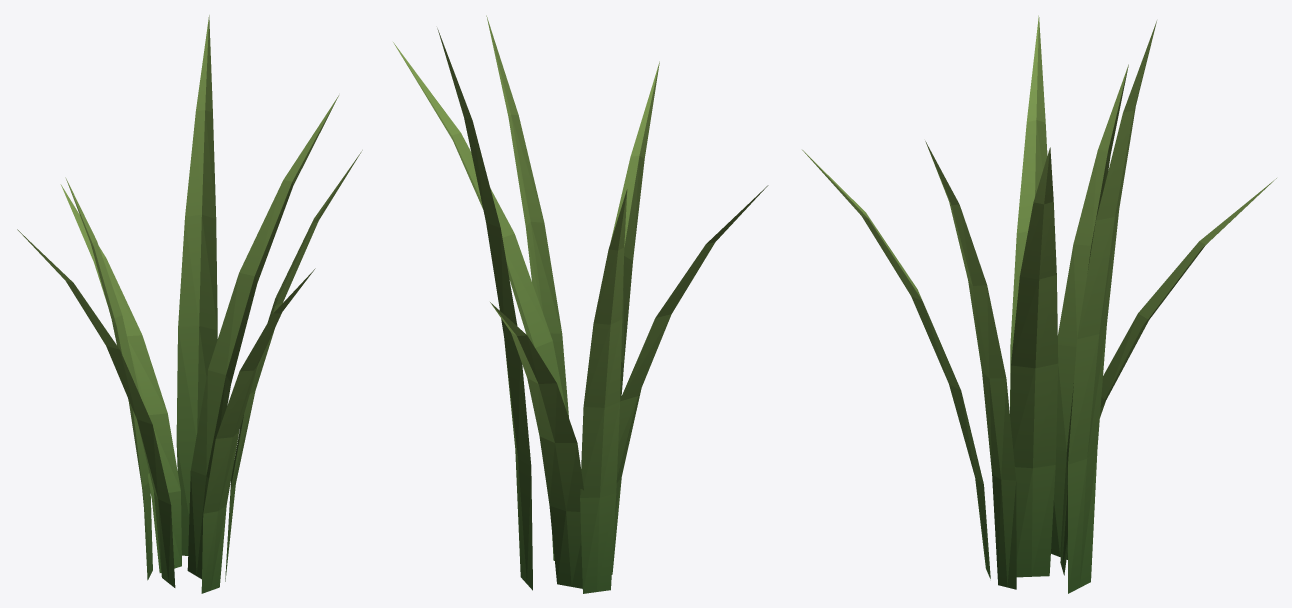
Rendered from archer_tall_grass.glb.
3 renders of one model, left to right at view 1: azimuth 30°, elevation 25°; view 2: azimuth 150°, elevation 25°; view 3: azimuth 270°, elevation 25°, orthographic. The views are drawn at different scales.
Parts seen in each view (by area): view 1: ArcherTallGrassTuft; view 2: ArcherTallGrassTuft; view 3: ArcherTallGrassTuft.
Boxes of the visible parts, box(x1,y1,x2,y2) form: ArcherTallGrassTuft: box(17, 15, 362, 593); ArcherTallGrassTuft: box(393, 15, 768, 593); ArcherTallGrassTuft: box(802, 15, 1276, 593).
Size of the model in its own units: 0.8199 by 1.2 by 0.8748.
